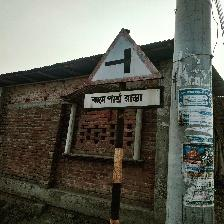Side-road-left: (80, 28, 164, 111)
